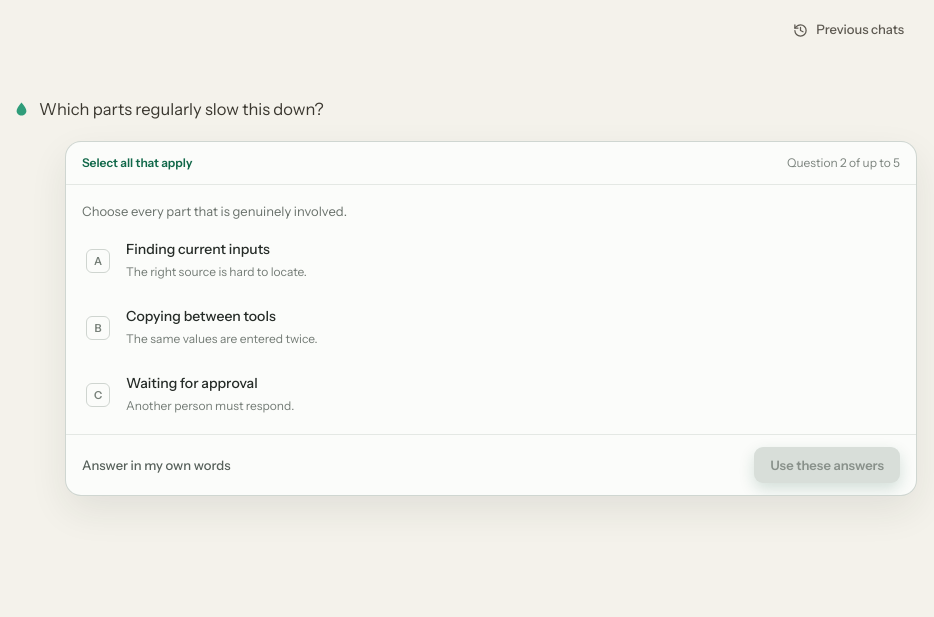
Test case: AskForFix › supports bounded multi-select and compare renderers with a free-text escape
Click the button "A Finding current inputs The right source is hard to locate.": (198, 249) 74,229 -> 908,292
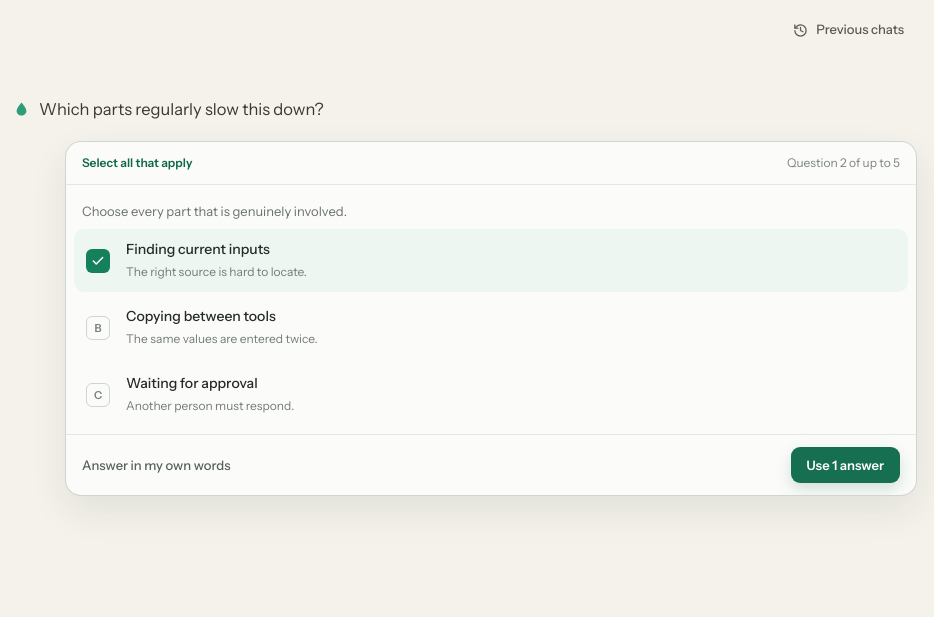
Click the button "B Copying between tools The same values are entered twice.": (201, 316) 74,296 -> 908,359
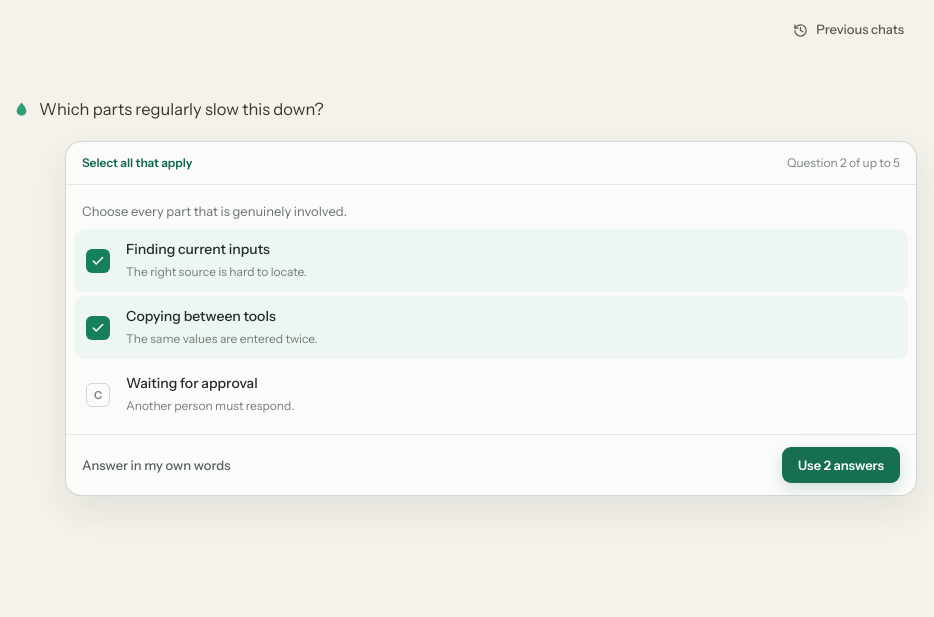
Click the button "Use 2 answers": (841, 465) 782,447 -> 900,483
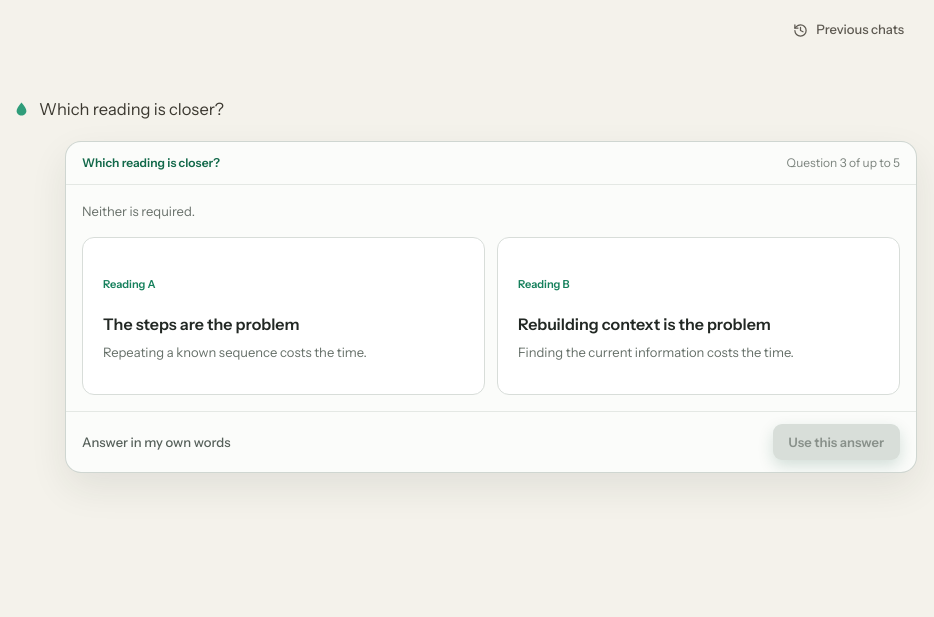
Expected: the text "The steps are the problem" is shown, 103,314 -> 300,334
Click the button "Answer in my own words": (156, 442) 82,433 -> 230,452
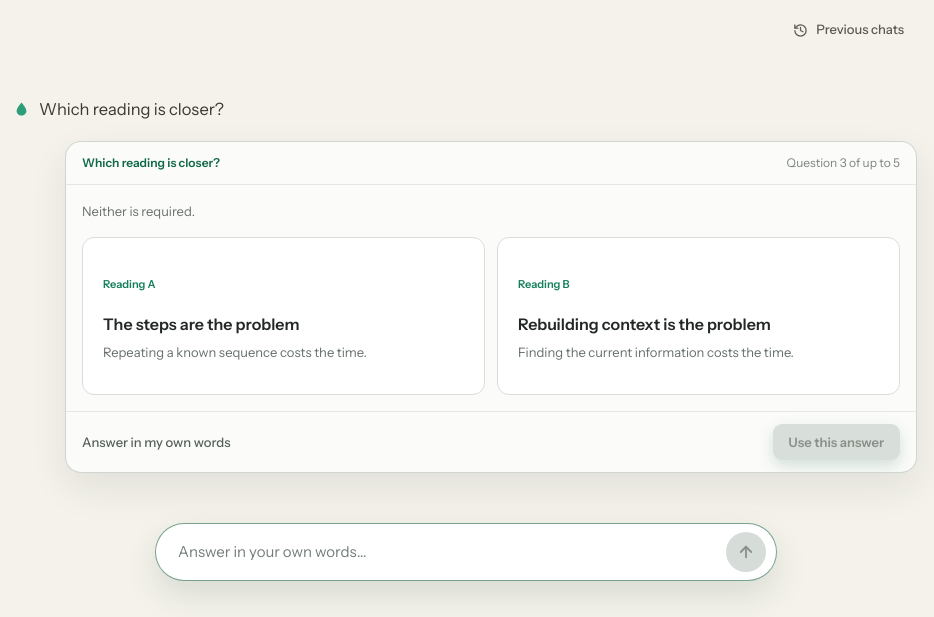
Expected: the text box with placeholder "Answer in your own words…" is shown, 166,536 -> 718,568
